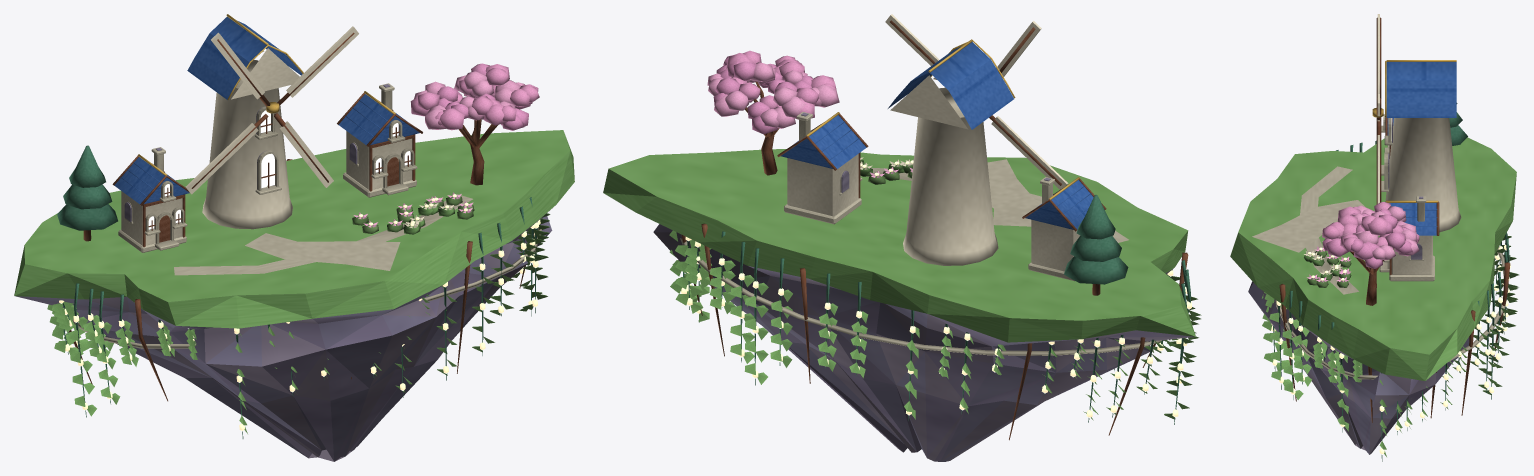
File: sky-windmill.glb
3 renders of one model, left to right at view 1: azimuth 30°, elevation 25°; view 2: azimuth 150°, elevation 25°; view 3: azimuth 270°, elevation 25°, orthographic. The views are drawn at different scales.
Visible parts, largest first — view 1: sky-windmill; view 2: sky-windmill; view 3: sky-windmill.
Part boxes in pixels (<box>): sky-windmill: <box>14,14,574,461</box>; sky-windmill: <box>603,14,1201,461</box>; sky-windmill: <box>1230,14,1518,461</box>.
Bounding box in the file's own units: 17.7 × 13.37 × 9.1.
Materials: 10 (10 with a texture image).
